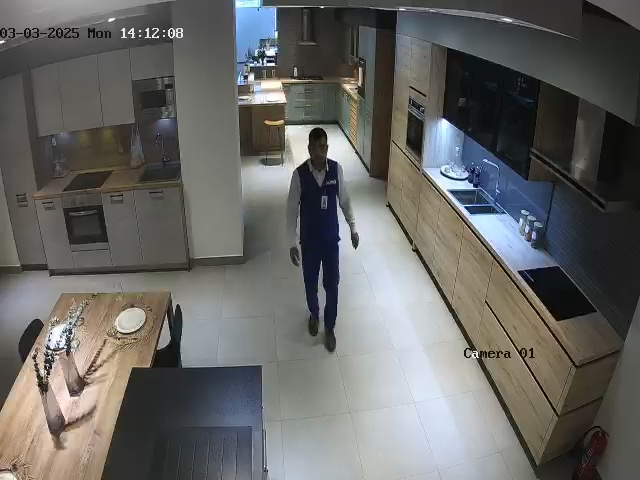employee: (285, 127, 360, 352)
